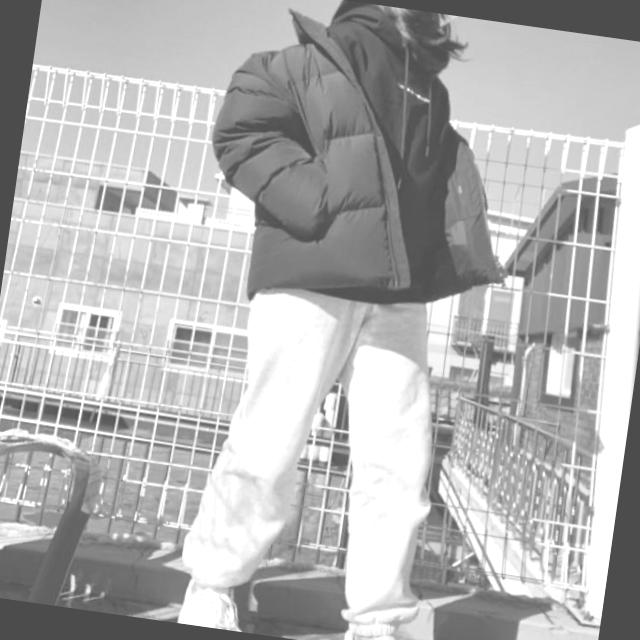hoodies: (290, 0, 462, 304)
padding: (195, 0, 540, 323)
trainingpants: (174, 262, 470, 640)
